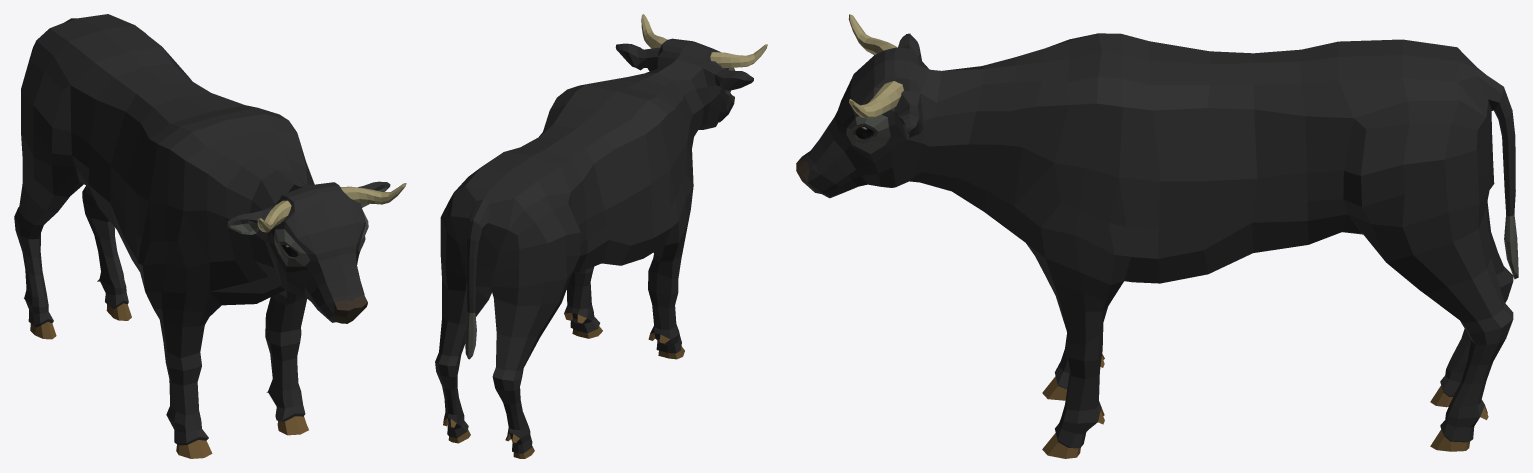
The model's file is bull.gltf.
The picture shows the model from 3 angles, left to right: view 1: azimuth 30°, elevation 25°; view 2: azimuth 150°, elevation 25°; view 3: azimuth 270°, elevation 25°; orthographic projection. The views are drawn at different scales.
Parts seen in each view (by area): view 1: Cow; view 2: Cow; view 3: Cow.
Boxes of the visible parts, <box> form: Cow: <box>14,14,406,458</box>; Cow: <box>435,14,767,458</box>; Cow: <box>796,14,1518,458</box>.
Size of the model in its own units: 2.51 by 4.59 by 8.07.
